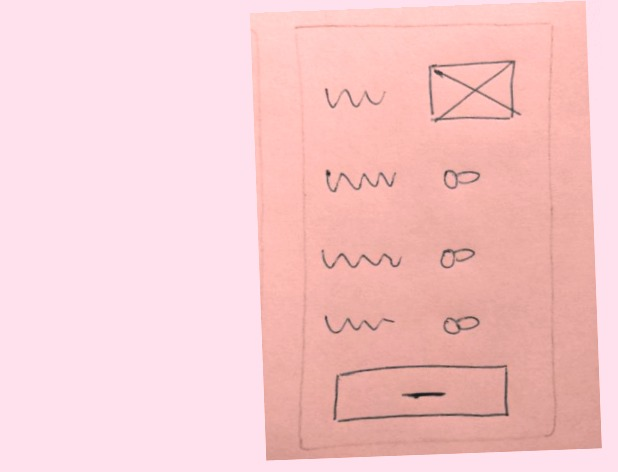button: (327, 356, 515, 430)
image: (420, 54, 524, 132)
switch: (430, 237, 485, 280), (437, 158, 490, 198), (434, 305, 487, 341)
text: (319, 239, 407, 282), (319, 74, 394, 121), (314, 306, 403, 343), (317, 160, 402, 197)
